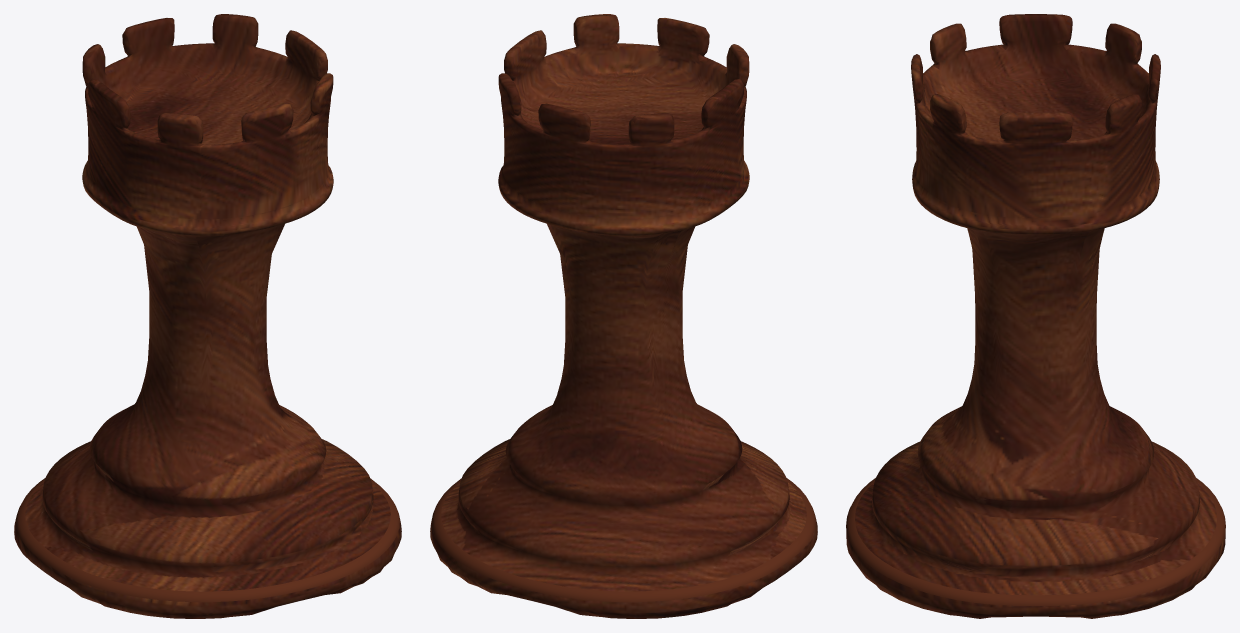
The model's file is rook_black.glb.
The picture shows the model from 3 angles, left to right: view 1: azimuth 30°, elevation 25°; view 2: azimuth 150°, elevation 25°; view 3: azimuth 270°, elevation 25°; orthographic projection.
Visible parts, largest first — view 1: Cylinder; view 2: Cylinder; view 3: Cylinder.
Part boxes in pixels (left/top/right/bottom): Cylinder: left=14, top=14, right=401, bottom=618; Cylinder: left=430, top=14, right=817, bottom=618; Cylinder: left=846, top=14, right=1225, bottom=618.
Bounding box in the file's own units: 0.6865 × 0.962 × 0.6809.
1 material, 1 textured.
